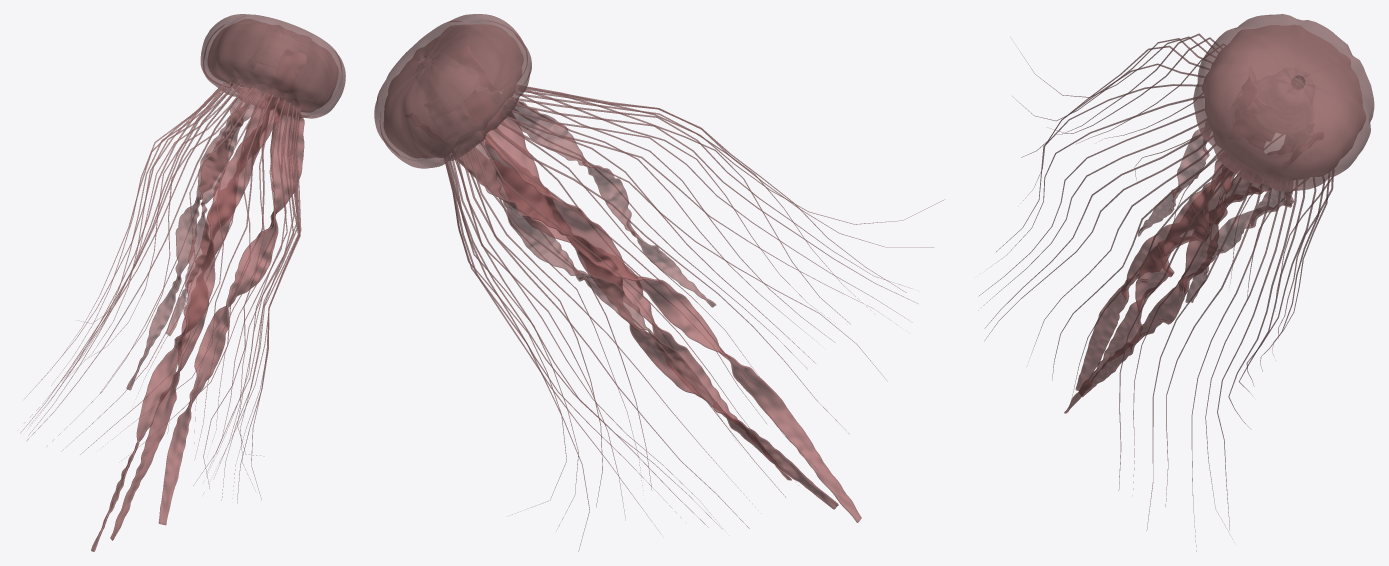
3 views of the same model, side by side, from view 1: azimuth 30°, elevation 25°; view 2: azimuth 150°, elevation 25°; view 3: azimuth 270°, elevation 25° (orthographic). The views are drawn at different scales.
Parts seen in each view (by area): view 1: Plane (×5), Hair, JellyBody, Lathe; view 2: Plane (×5), Hair, JellyBody, Lathe; view 3: JellyBody, Plane (×5), Hair, Lathe.
Part boxes in pixels (x1=…): Plane (×5): x1=91, y1=49, x2=306, y2=551; Hair: x1=17, y1=82, x2=301, y2=503; JellyBody: x1=200, y1=14, x2=345, y2=118; Lathe: x1=247, y1=32, x2=298, y2=68; Plane (×5): x1=405, y1=46, x2=861, y2=522; Hair: x1=444, y1=85, x2=944, y2=551; JellyBody: x1=374, y1=14, x2=531, y2=168; Lathe: x1=415, y1=52, x2=479, y2=116; JellyBody: x1=1193, y1=14, x2=1374, y2=191; Plane (×5): x1=1064, y1=68, x2=1323, y2=413; Hair: x1=978, y1=33, x2=1333, y2=551; Lathe: x1=1255, y1=68, x2=1314, y2=133.
Bounding box in the file's own units: 2889 × 3284 × 2155.
